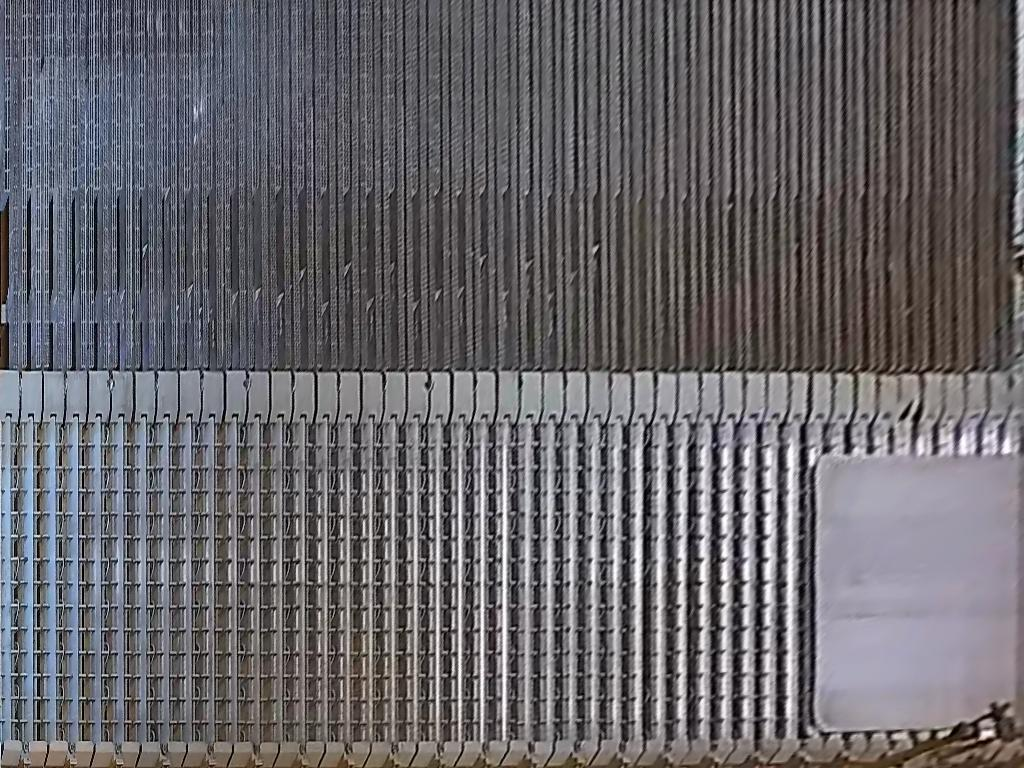steel: (813, 454, 1024, 734)
